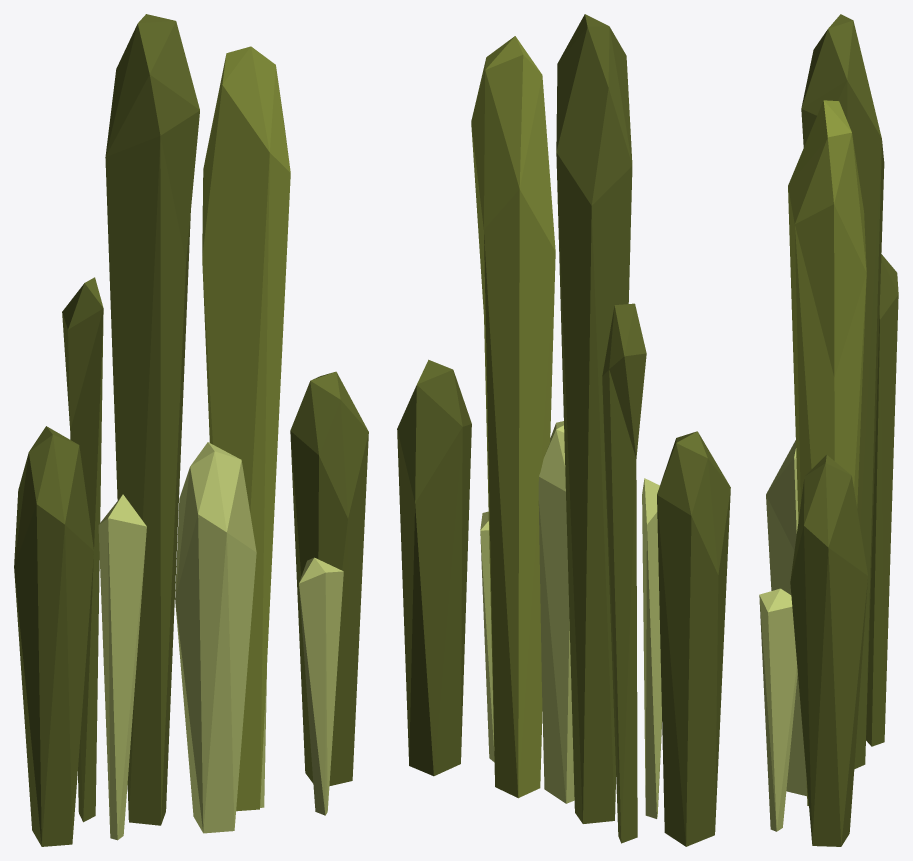
The model's file is ea_swamp_grass_01e_pre__2__lev1.glb.
The picture shows the model from 3 angles, left to right: view 1: azimuth 30°, elevation 25°; view 2: azimuth 150°, elevation 25°; view 3: azimuth 270°, elevation 25°; orthographic projection. The views are drawn at different scales.
Visible parts, largest first — view 1: ea_swamp_grass_01e_pre__2__lev1; view 2: ea_swamp_grass_01e_pre__2__lev1; view 3: ea_swamp_grass_01e_pre__2__lev1.
Boxes of the visible parts, <box> form: ea_swamp_grass_01e_pre__2__lev1: <box>14,14,368,846</box>; ea_swamp_grass_01e_pre__2__lev1: <box>397,14,730,846</box>; ea_swamp_grass_01e_pre__2__lev1: <box>759,14,898,846</box>.
Bounding box in the file's own units: 1.1 × 2.5 × 0.4219.
Materials: 1 (1 with a texture image).
